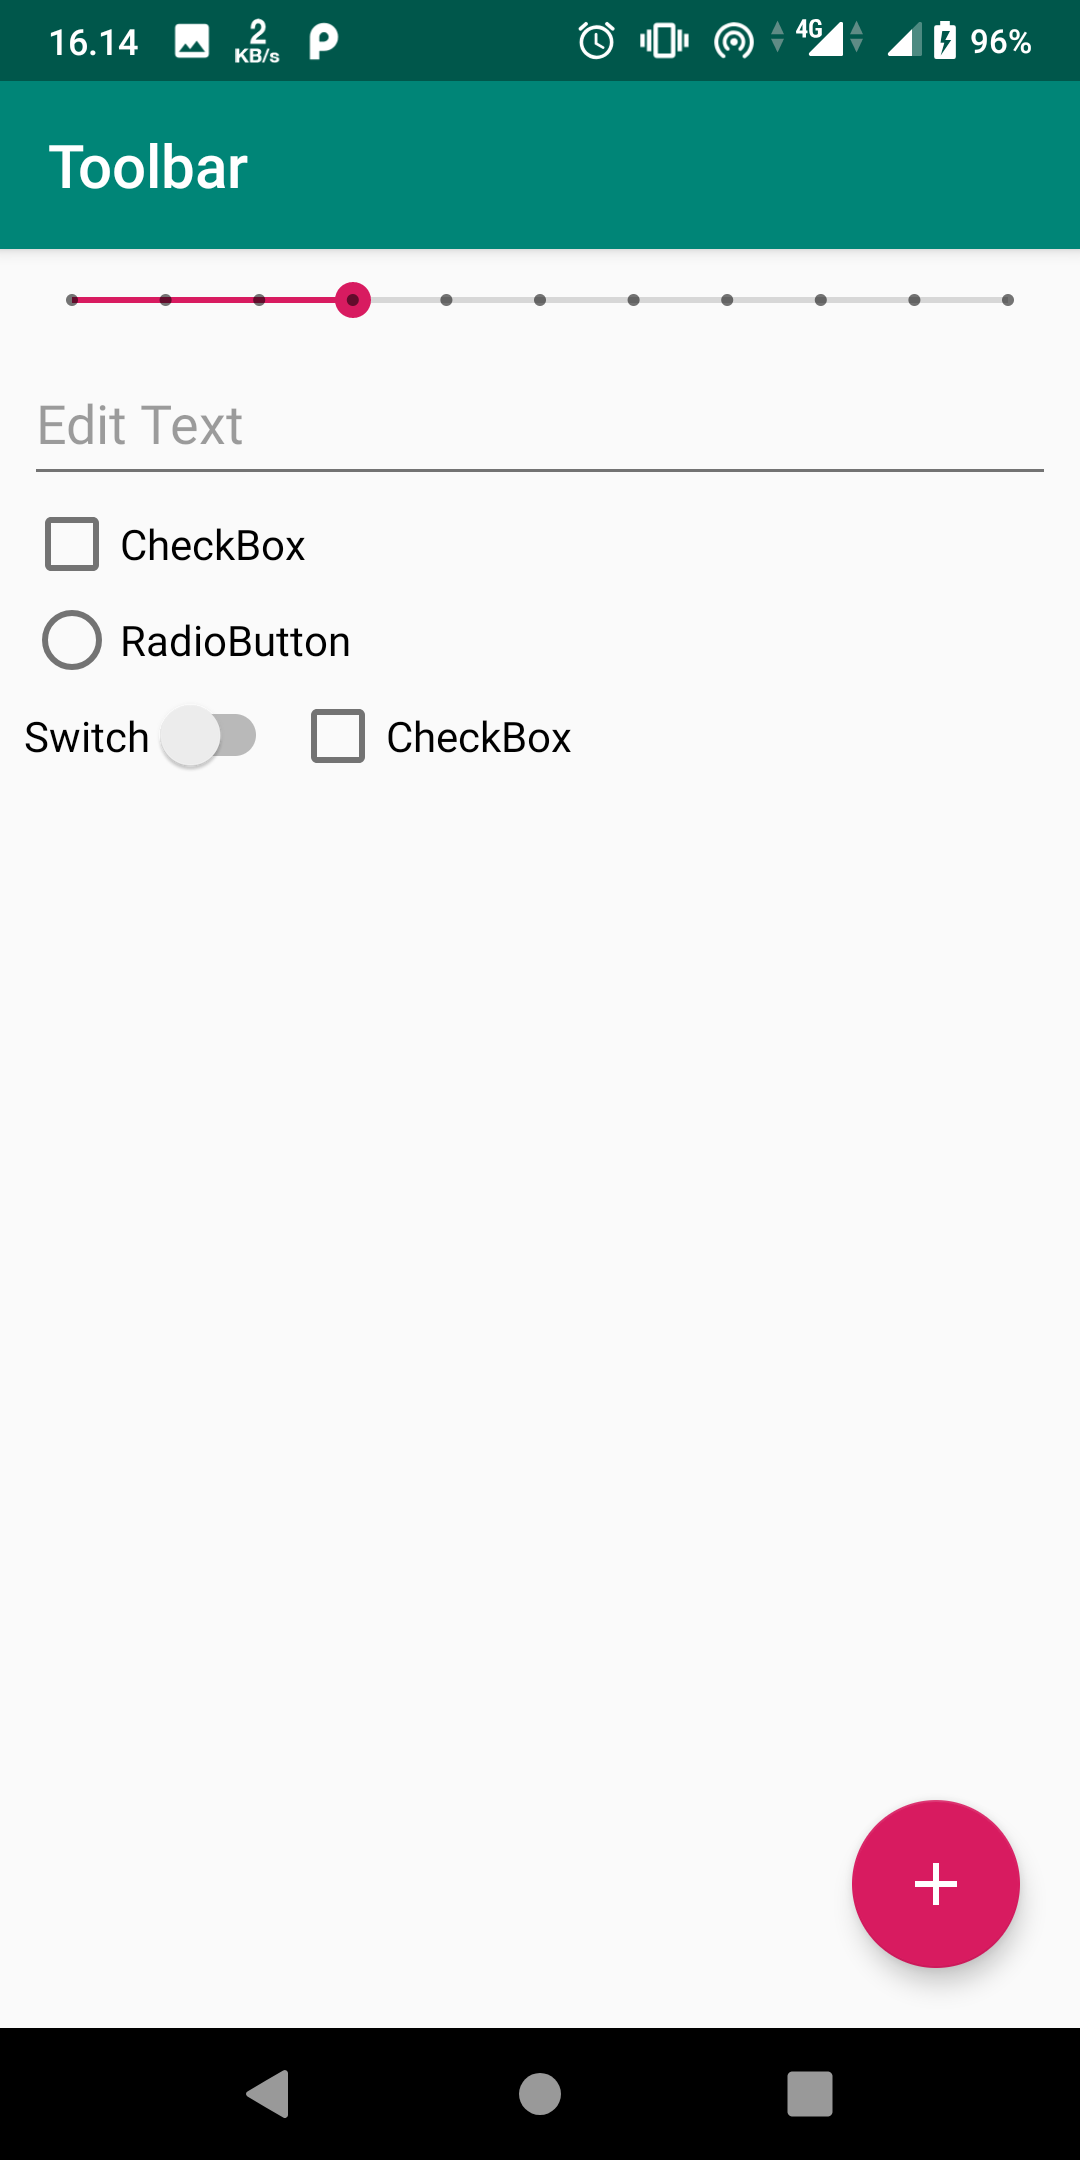checkBox: (302, 690, 594, 782), (39, 508, 314, 573)
editText: (33, 393, 1055, 496)
floatingButton: (831, 1787, 1036, 1984)
radioButton: (33, 592, 404, 676)
slider: (55, 282, 1030, 320)
switch: (7, 703, 269, 770)
toolbar: (1, 80, 1080, 251)
